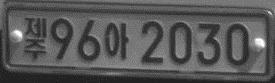0: (169, 18, 192, 66), (226, 21, 250, 65)
2: (137, 20, 165, 64)
3: (194, 20, 222, 66)
6: (78, 19, 101, 61)
9: (48, 17, 75, 59)
아: (103, 20, 129, 62)
제주_V: (24, 15, 47, 61)
